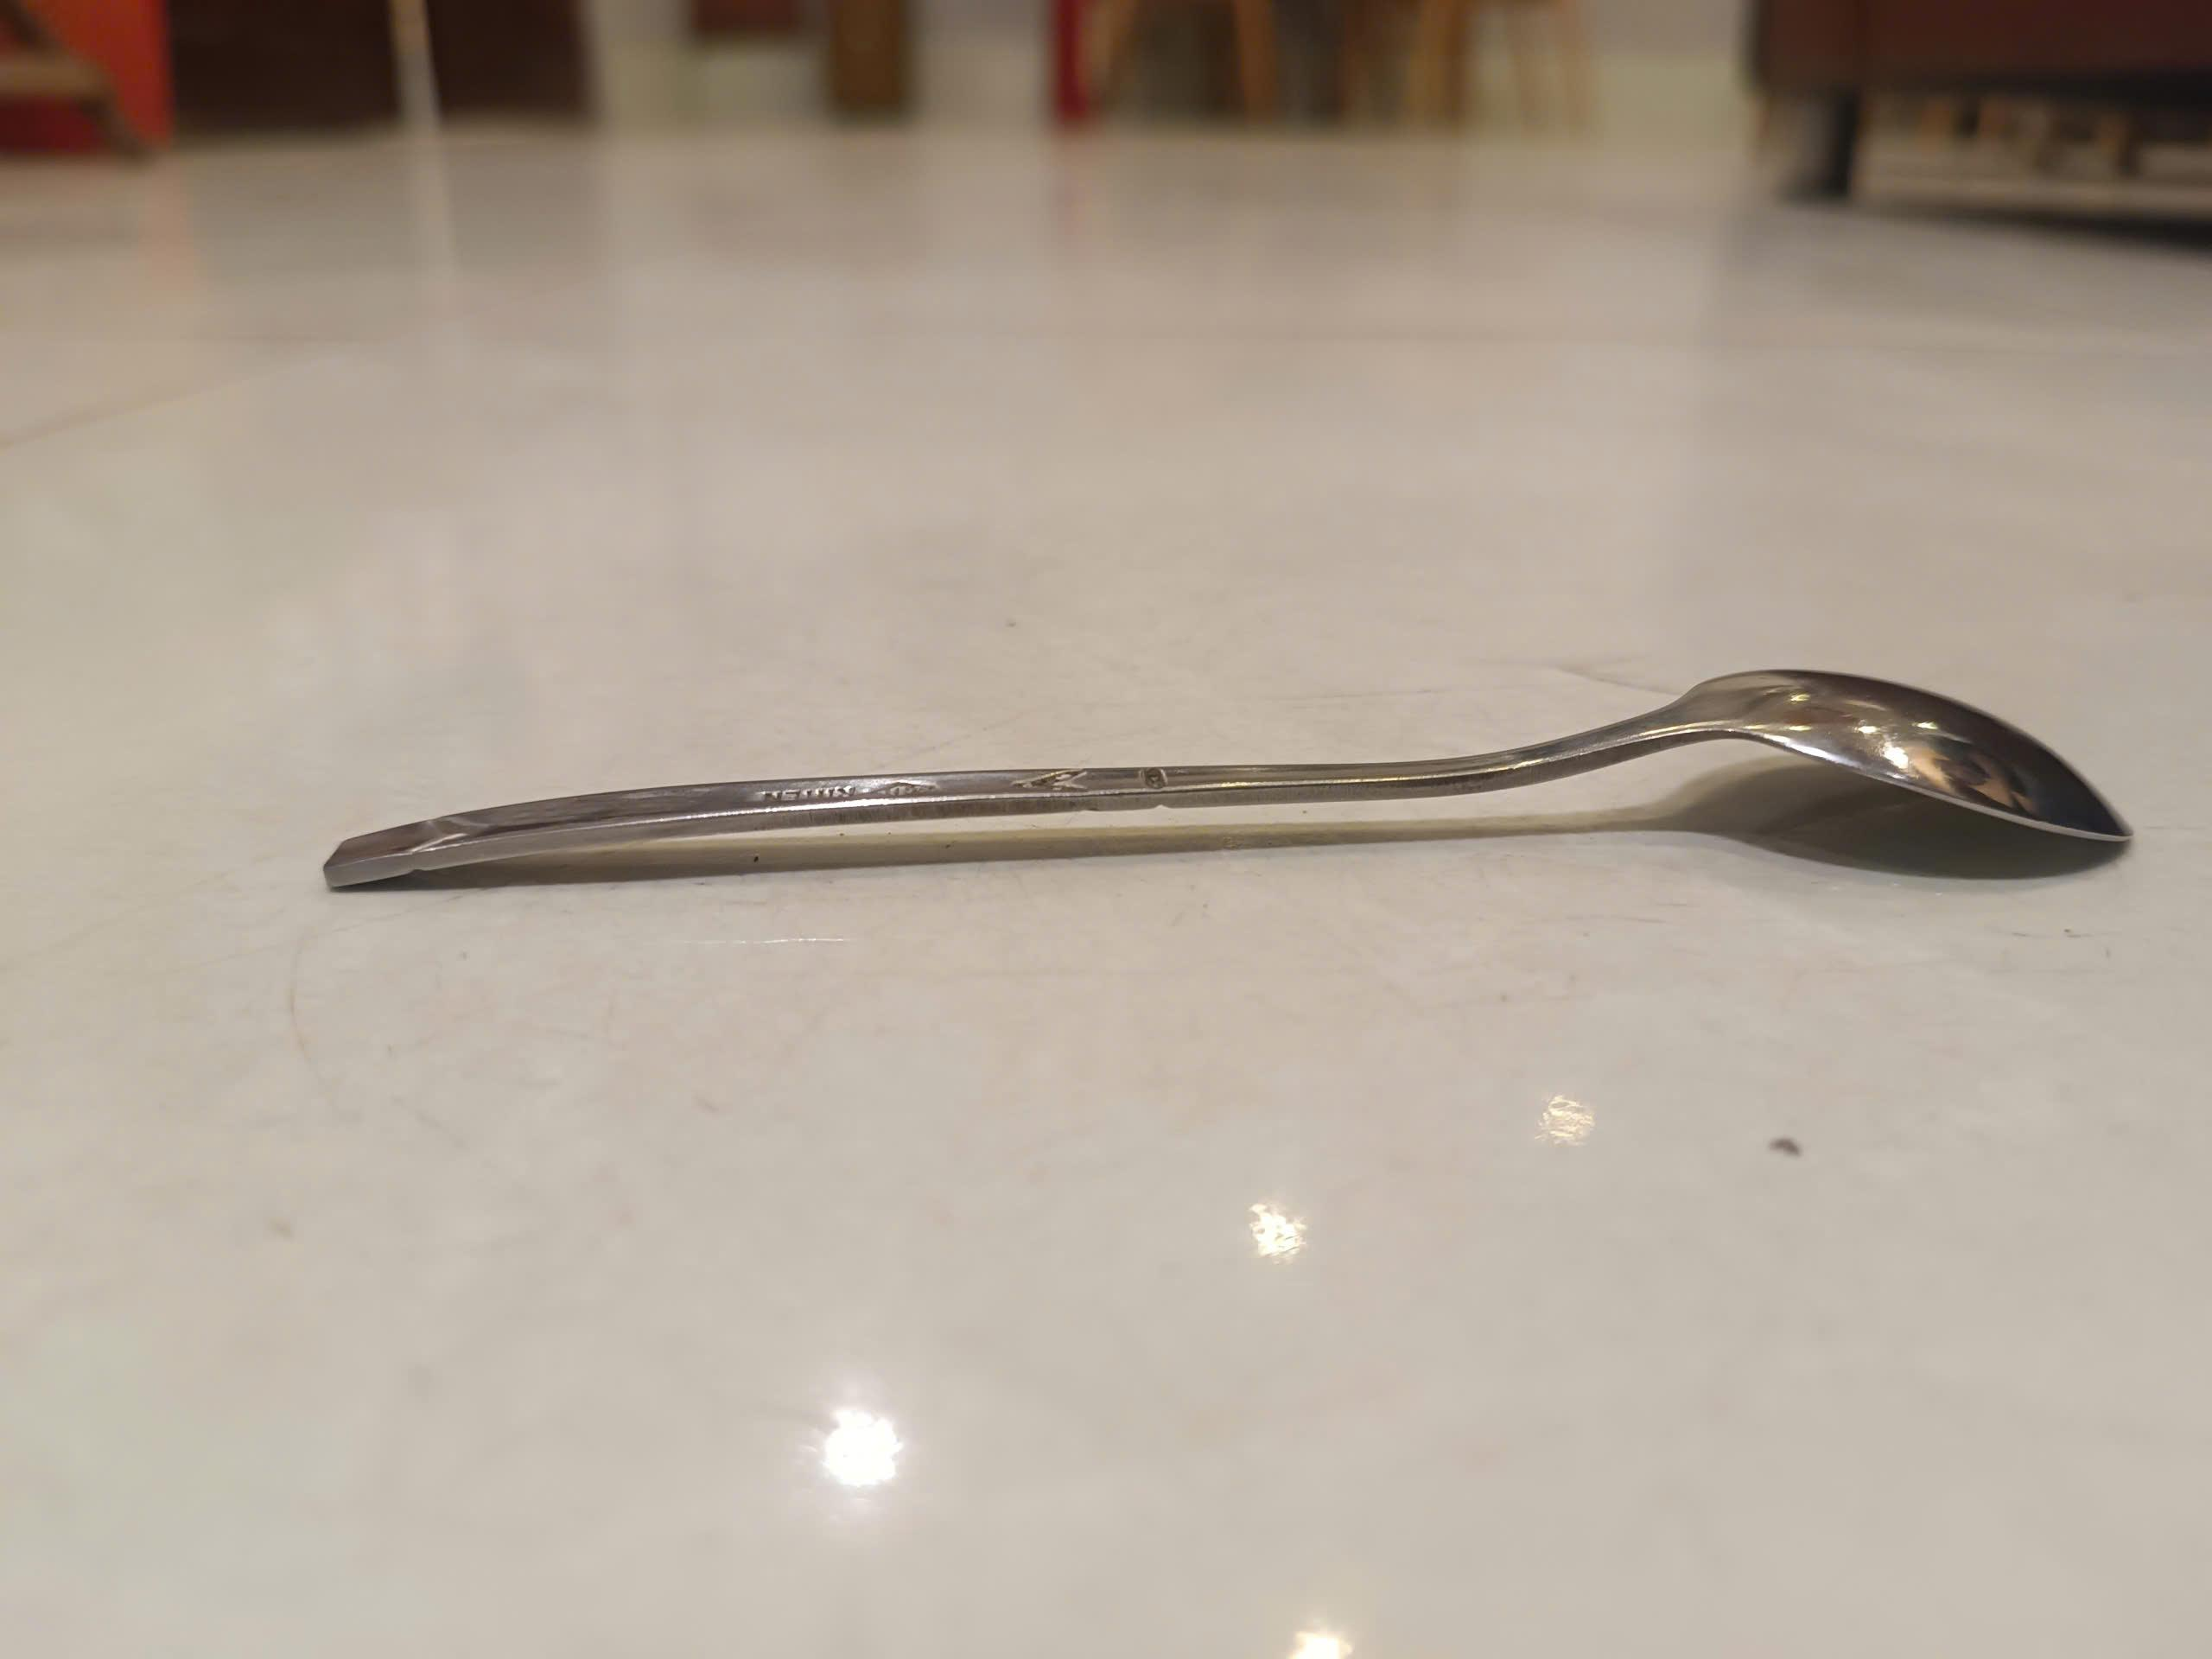Vo co: (322, 666, 2128, 897)
